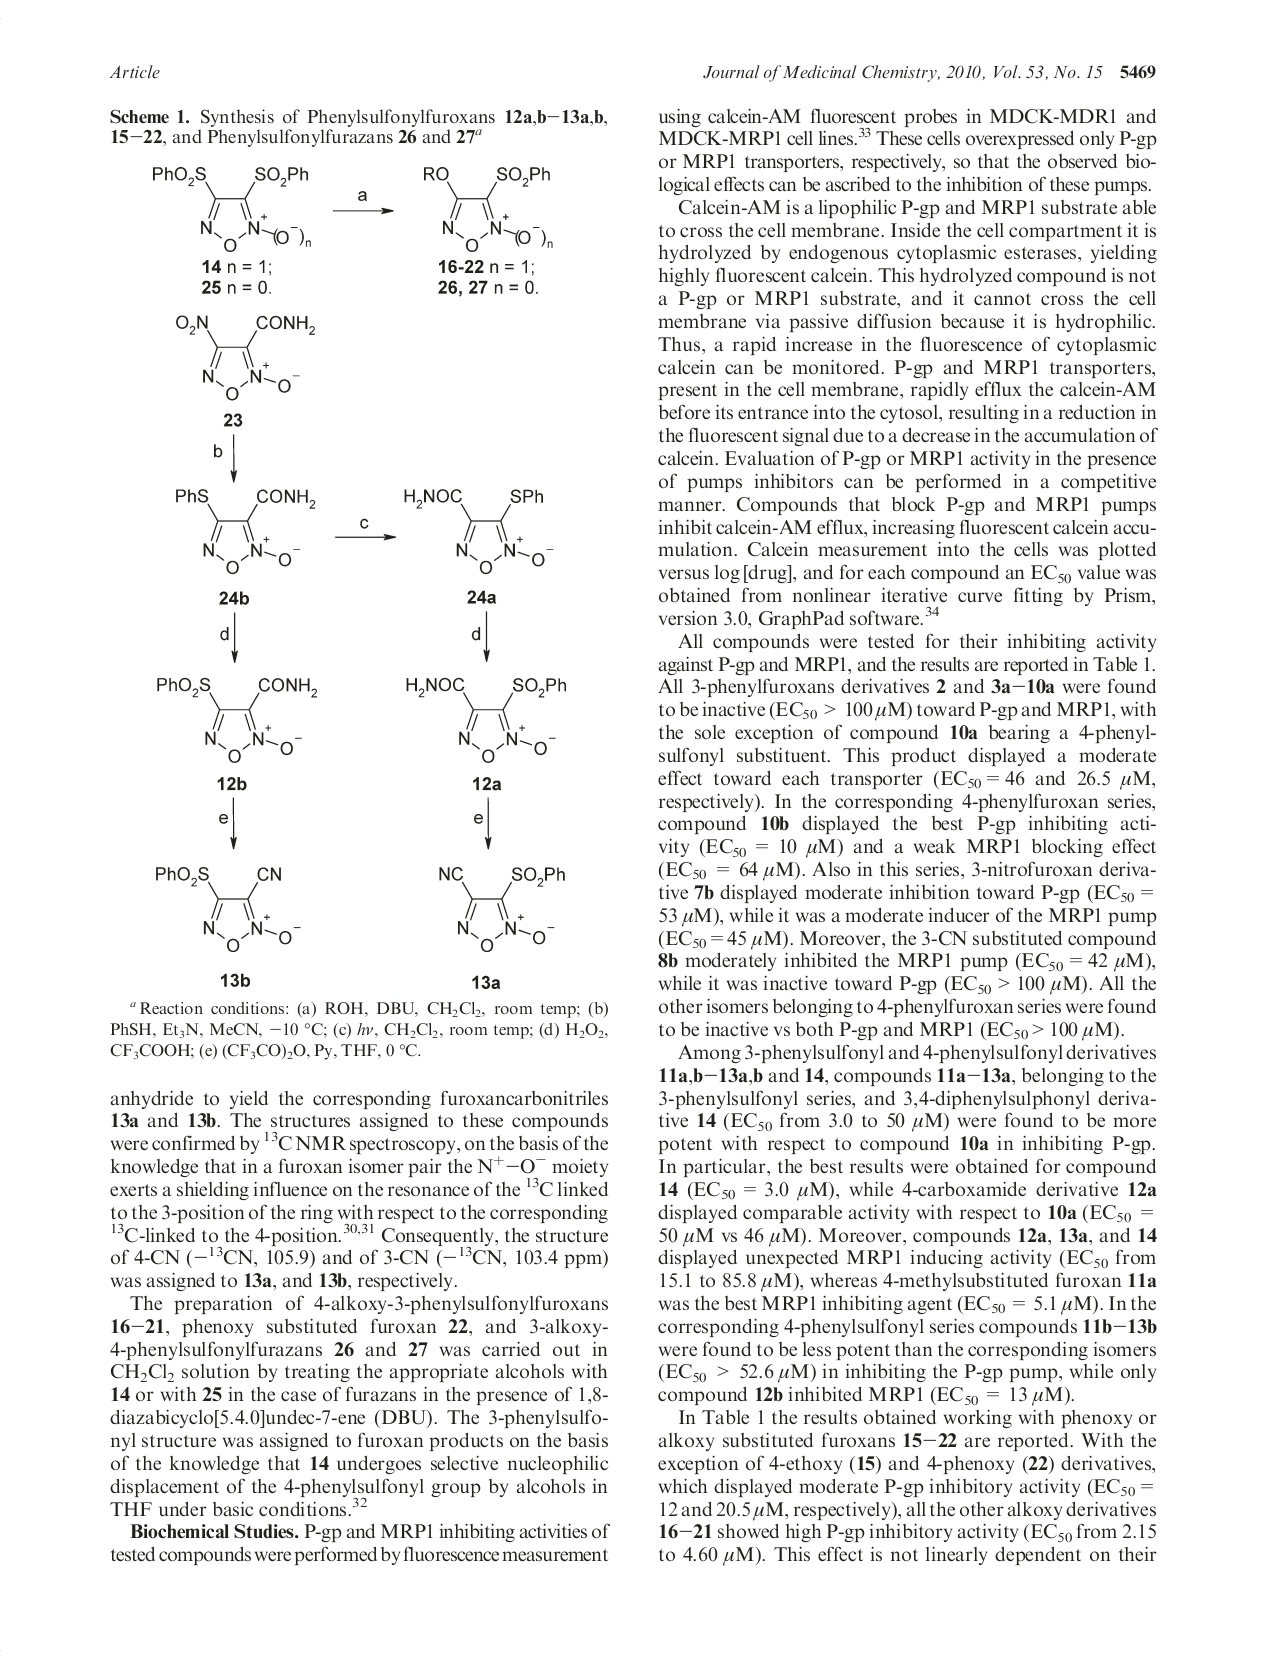exist_molecular: (144, 668, 336, 767), (400, 668, 570, 767), (140, 152, 313, 249), (144, 852, 302, 956), (398, 477, 555, 581), (432, 854, 582, 954), (172, 302, 315, 404), (172, 479, 318, 572), (416, 164, 560, 253)
